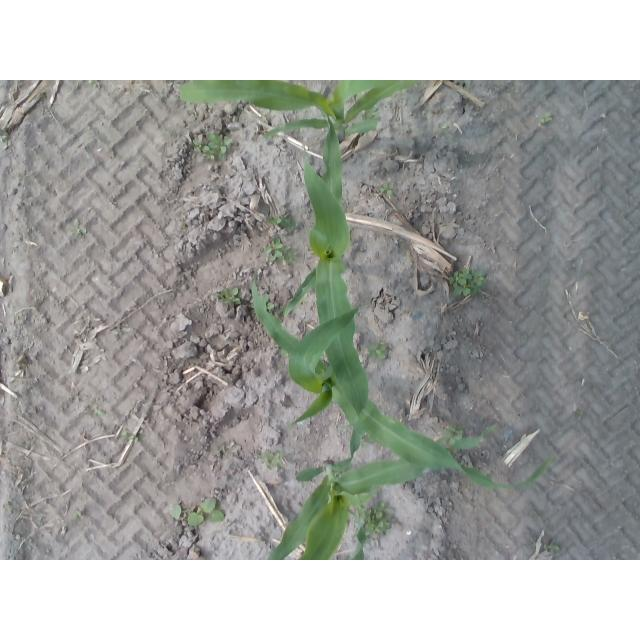Maize: (248, 275, 549, 491), (269, 430, 484, 560), (286, 114, 370, 419), (180, 80, 421, 140)
Weeds: (170, 496, 224, 525), (207, 132, 232, 157), (366, 519, 391, 538), (439, 427, 464, 446), (213, 288, 240, 304), (67, 219, 87, 238), (367, 345, 390, 360), (463, 271, 485, 286), (263, 451, 281, 469), (448, 271, 466, 287), (266, 238, 283, 254), (373, 504, 391, 519), (544, 538, 560, 554), (357, 506, 372, 522), (192, 139, 208, 153), (454, 284, 471, 296), (381, 183, 394, 197), (470, 284, 483, 297), (111, 327, 131, 335), (123, 431, 137, 442), (94, 404, 106, 416), (269, 251, 283, 261), (282, 219, 295, 229), (88, 80, 101, 89), (269, 218, 282, 227), (541, 113, 552, 123), (287, 252, 297, 261), (74, 511, 83, 521), (339, 424, 350, 432), (206, 149, 214, 159), (576, 410, 584, 418), (283, 245, 290, 251), (178, 223, 186, 228), (531, 542, 536, 550)
